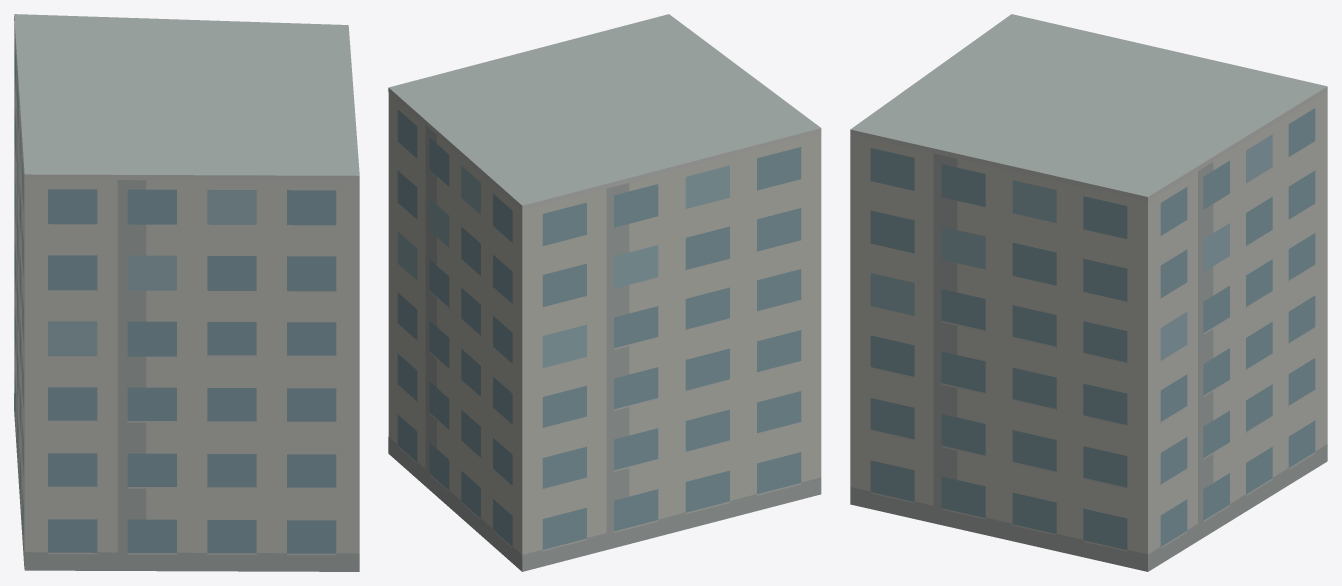
Rendered from residential-db3aff51-aca9-41e5-ab24-137d3c086c47.glb.
3 views of the same model, side by side, from view 1: azimuth 30°, elevation 25°; view 2: azimuth 150°, elevation 25°; view 3: azimuth 270°, elevation 25° (orthographic). The views are drawn at different scales.
Visible parts, largest first — view 1: residential-db3aff51-aca9-41e5-ab24-137d3c086c47.tmp; view 2: residential-db3aff51-aca9-41e5-ab24-137d3c086c47.tmp; view 3: residential-db3aff51-aca9-41e5-ab24-137d3c086c47.tmp.
Part boxes in pixels (x1,y1,x2,y2): residential-db3aff51-aca9-41e5-ab24-137d3c086c47.tmp: (14, 14, 359, 571); residential-db3aff51-aca9-41e5-ab24-137d3c086c47.tmp: (388, 14, 821, 571); residential-db3aff51-aca9-41e5-ab24-137d3c086c47.tmp: (850, 14, 1327, 571).
Size of the model in its own units: 19.16 by 18.3 by 21.13.
